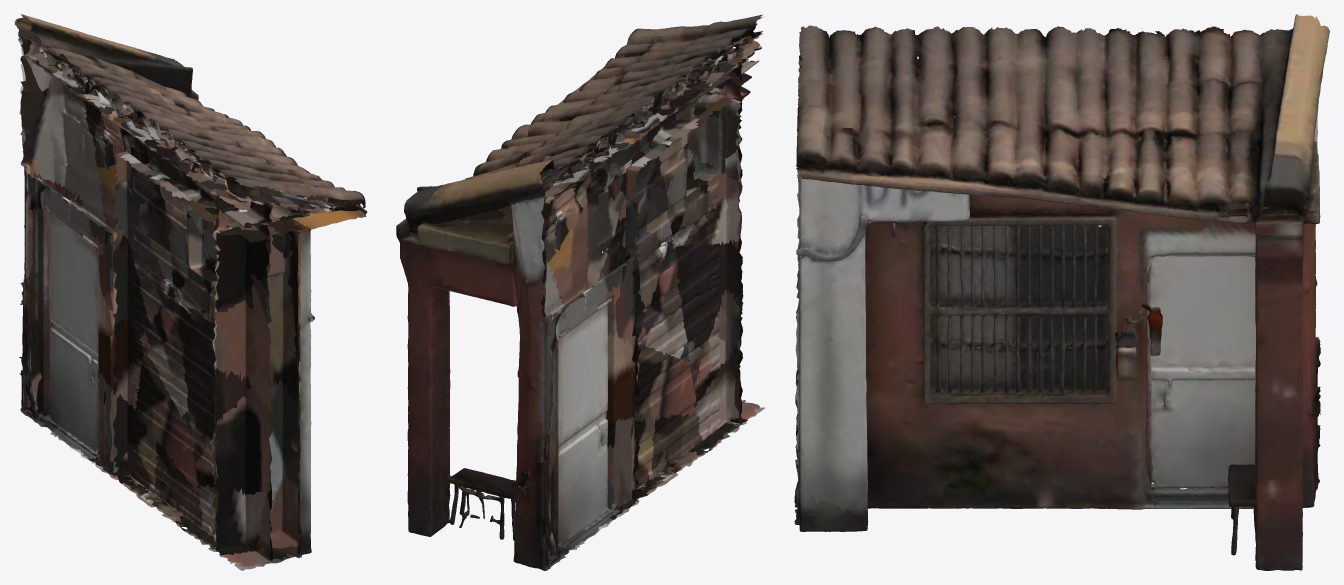
The picture shows the model from 3 angles, left to right: view 1: azimuth 30°, elevation 25°; view 2: azimuth 150°, elevation 25°; view 3: azimuth 270°, elevation 25°; orthographic projection. The views are drawn at different scales.
Visible parts, largest first — view 1: Meshy_AI_Solitary_Dwelling_0106044957_texture; view 2: Meshy_AI_Solitary_Dwelling_0106044957_texture; view 3: Meshy_AI_Solitary_Dwelling_0106044957_texture.
Boxes of the visible parts, x1,y1,x2,y2 form: Meshy_AI_Solitary_Dwelling_0106044957_texture: (14, 14, 367, 570); Meshy_AI_Solitary_Dwelling_0106044957_texture: (396, 14, 764, 570); Meshy_AI_Solitary_Dwelling_0106044957_texture: (794, 14, 1329, 570).
Size of the model in its own units: 0.4164 by 1.04 by 1.06.
1 material, 1 textured.
